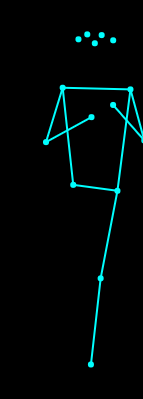tree: (41, 17, 143, 372)
